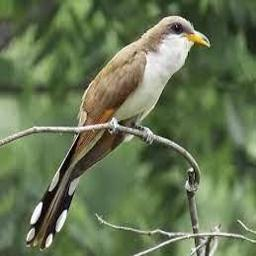Cuckoo: (25, 16, 210, 252)
